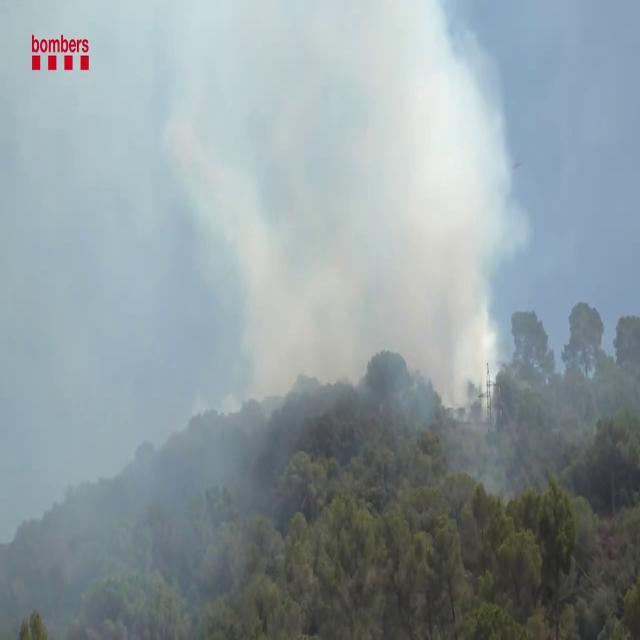Smoke: (1, 23, 537, 463)
